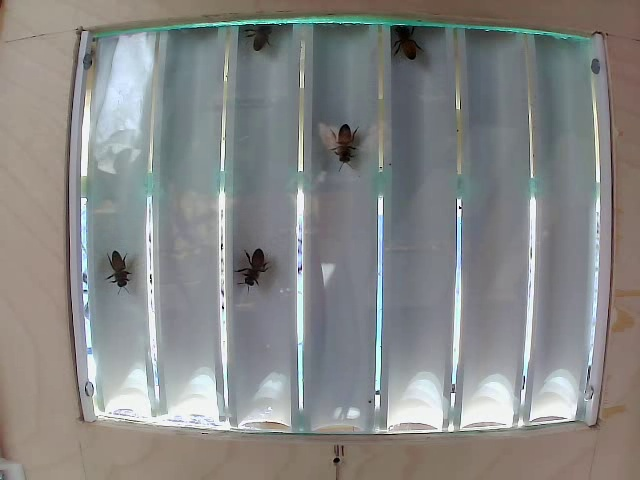bee: (322, 113, 368, 171), (232, 239, 271, 300), (245, 8, 288, 57), (103, 240, 138, 296), (383, 19, 432, 57)
